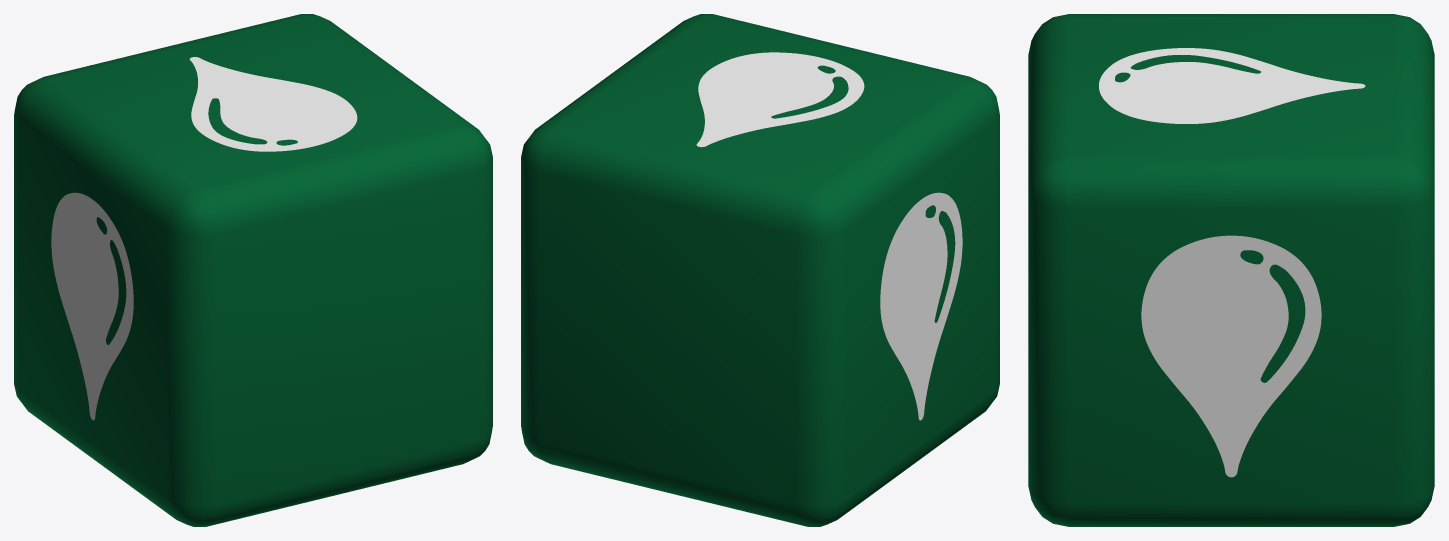
The model's file is PoisonDice.fbx.
3 renders of one model, left to right at view 1: azimuth 30°, elevation 25°; view 2: azimuth 150°, elevation 25°; view 3: azimuth 270°, elevation 25°, orthographic. The views are drawn at different scales.
Visible parts, largest first — view 1: Poison.002; view 2: Poison.002; view 3: Poison.002.
Boxes of the visible parts, box(x1,y1,x2,y2) form: Poison.002: box(14, 14, 492, 526); Poison.002: box(521, 14, 999, 526); Poison.002: box(1028, 14, 1434, 526).
Bounding box in the file's own units: 200 × 200 × 200.
